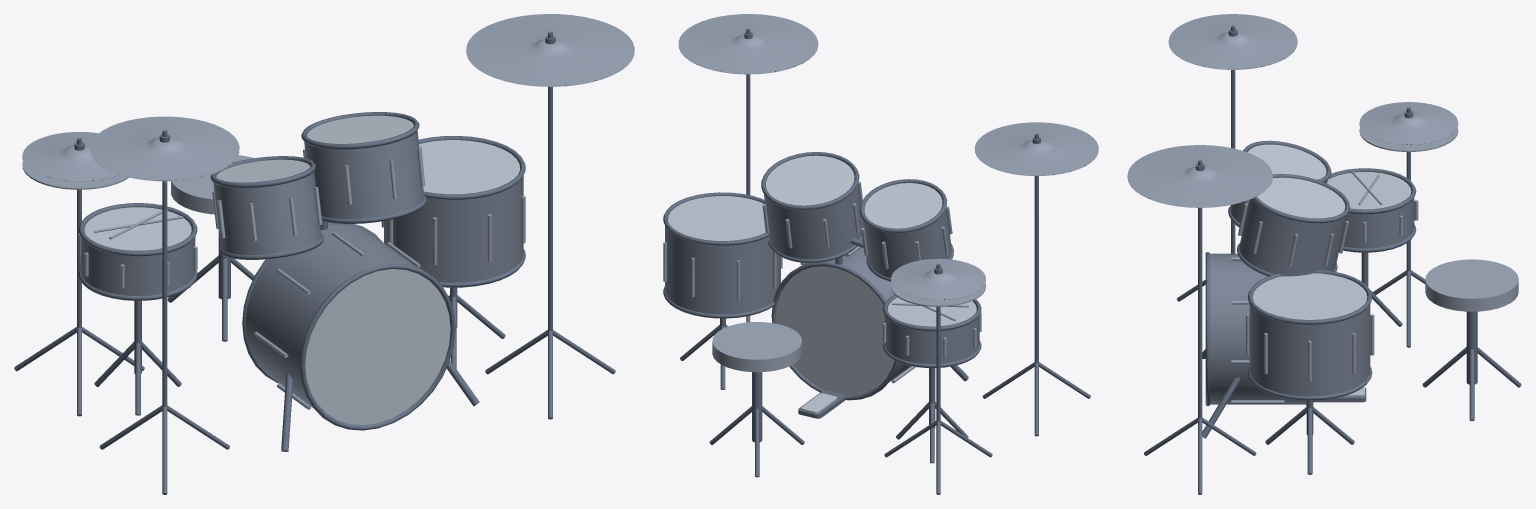
File: drum-kit-lite.glb
3 views of the same model, side by side, from view 1: azimuth 30°, elevation 25°; view 2: azimuth 150°, elevation 25°; view 3: azimuth 270°, elevation 25° (orthographic). The views are drawn at different scales.
Visible parts, largest first — view 1: drum-kit-frame, drum-kit-light, drum-kit-accent, drum-kit-dark, drum-kit-soft; view 2: drum-kit-light, drum-kit-frame, drum-kit-accent, drum-kit-dark, drum-kit-soft; view 3: drum-kit-frame, drum-kit-accent, drum-kit-dark, drum-kit-light, drum-kit-soft.
Part boxes in pixels (bbox=[...]): drum-kit-frame: bbox=[81, 130, 523, 407]; drum-kit-light: bbox=[84, 115, 519, 425]; drum-kit-accent: bbox=[22, 14, 634, 409]; drum-kit-dark: bbox=[14, 31, 615, 494]; drum-kit-soft: bbox=[171, 155, 253, 214]; drum-kit-light: bbox=[668, 155, 976, 413]; drum-kit-frame: bbox=[665, 183, 979, 381]; drum-kit-accent: bbox=[663, 14, 1098, 383]; drum-kit-dark: bbox=[663, 28, 1090, 494]; drum-kit-soft: bbox=[712, 322, 801, 372]; drum-kit-frame: bbox=[1210, 180, 1414, 404]; drum-kit-accent: bbox=[1127, 14, 1458, 403]; drum-kit-dark: bbox=[1144, 25, 1521, 494]; drum-kit-light: bbox=[1247, 144, 1411, 396]; drum-kit-soft: bbox=[1425, 259, 1518, 311].
Bounding box in the file's own units: 1.83 × 1.25 × 1.44.
